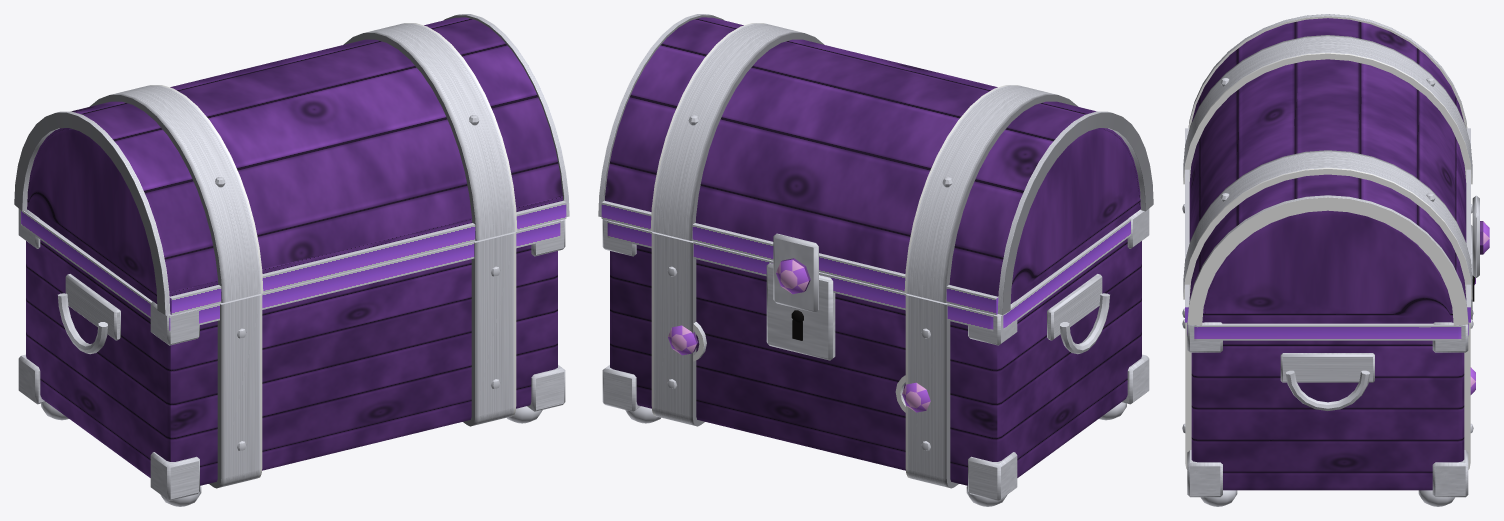
The model's file is Chest_Epic.fbx.
3 renders of one model, left to right at view 1: azimuth 30°, elevation 25°; view 2: azimuth 150°, elevation 25°; view 3: azimuth 270°, elevation 25°, orthographic. The views are drawn at different scales.
Visible parts, largest first — view 1: Lid, Base; view 2: Lid, Base; view 3: Lid, Base.
Part boxes in pixels (left/top/right/bottom): Lid: left=14, top=14, right=569, bottom=314; Base: left=18, top=209, right=565, bottom=506; Lid: left=598, top=14, right=1153, bottom=314; Base: left=602, top=209, right=1149, bottom=506; Lid: left=1183, top=14, right=1489, bottom=325; Base: left=1182, top=204, right=1475, bottom=506.
Size of the model in its own units: 4.37 by 3.42 by 2.93.
Materials: 1 (1 with a texture image).
